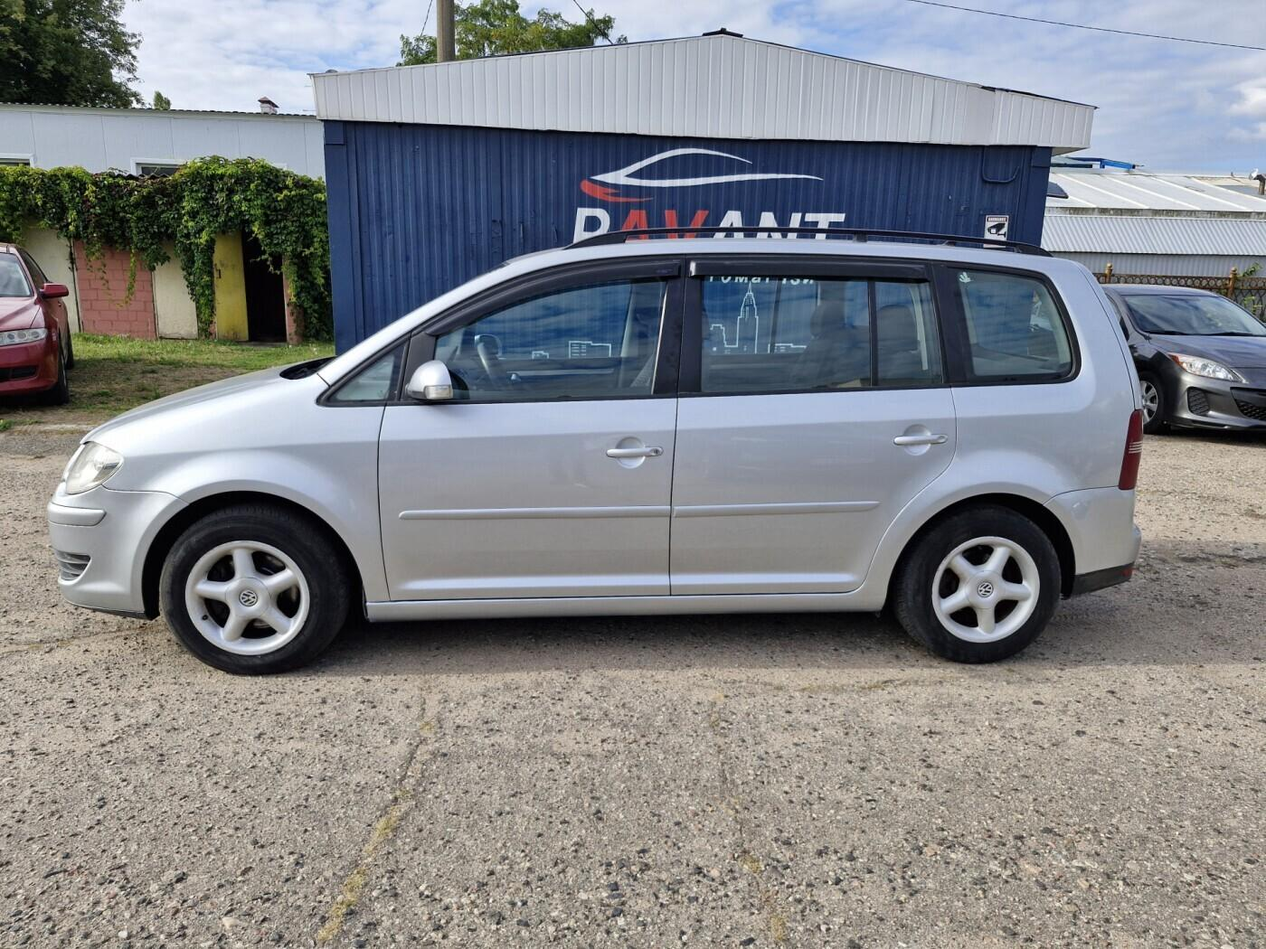Touran_2006-2010: (44, 234, 1151, 669)
